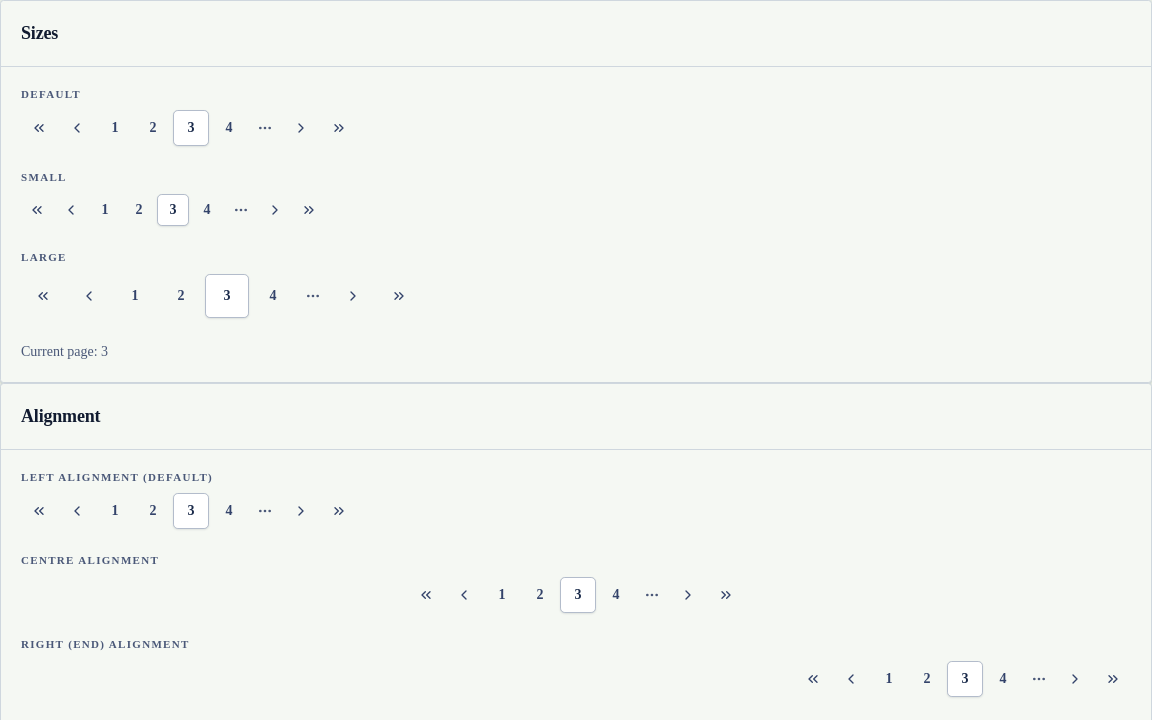
Test case: PagerDemos › shifts the window of pages and disables the end arrows on the last page
The width and height of the screenshot is (1152, 720).
Click the 1st link named "Last page": (339,128) [331,120,347,136]
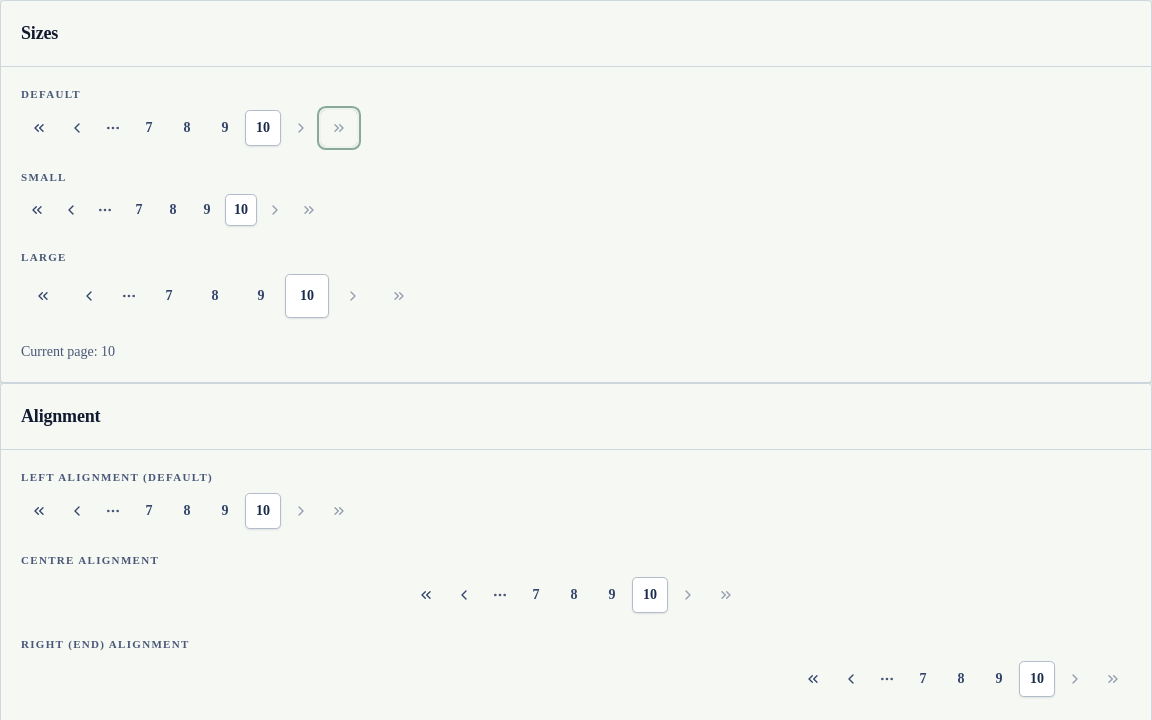
expect the text "Current page: 10" is shown: met, box [21,344,115,359]
expect the link named "Page 7" is shown: met, box [146,120,152,136]
